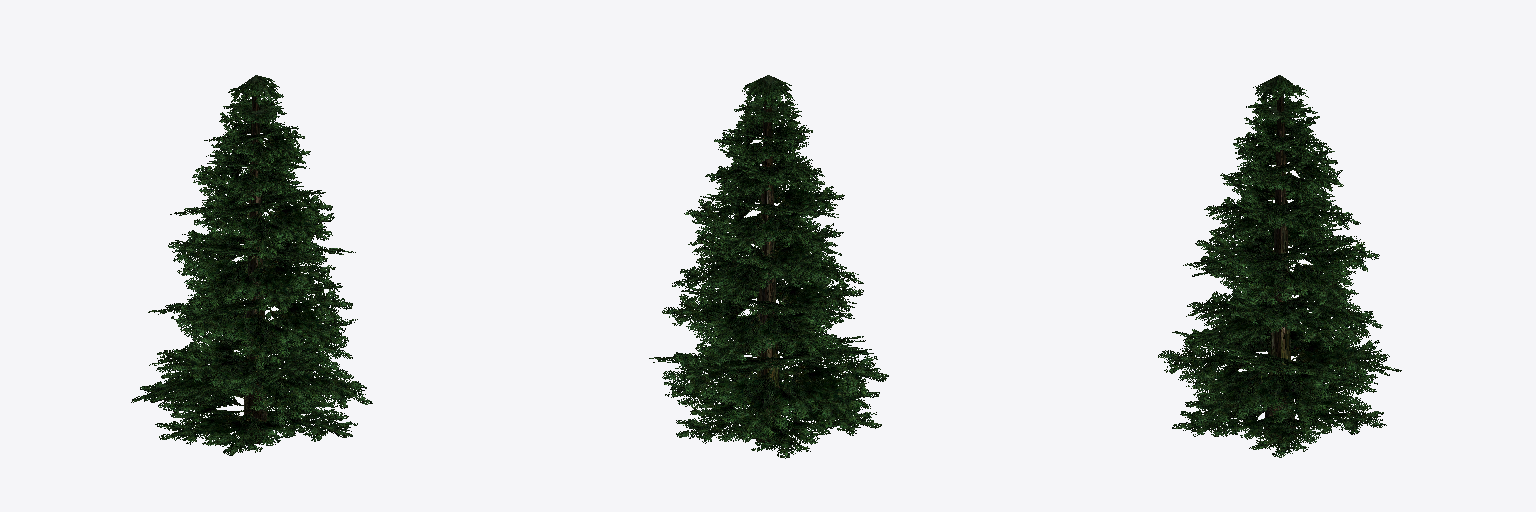
3 views of the same model, side by side, from view 1: azimuth 30°, elevation 25°; view 2: azimuth 150°, elevation 25°; view 3: azimuth 270°, elevation 25° (orthographic).
Visible parts, largest first — view 1: pine1.001_pine1-Geometry.001, pine1_pine1-Geometry; view 2: pine1.001_pine1-Geometry.001, pine1_pine1-Geometry; view 3: pine1.001_pine1-Geometry.001, pine1_pine1-Geometry.
Boxes of the visible parts, <box> form: pine1.001_pine1-Geometry.001: <box>131,75,372,455</box>; pine1_pine1-Geometry: <box>244,96,267,443</box>; pine1.001_pine1-Geometry.001: <box>649,75,888,458</box>; pine1_pine1-Geometry: <box>756,102,780,442</box>; pine1.001_pine1-Geometry.001: <box>1158,75,1401,457</box>; pine1_pine1-Geometry: <box>1264,88,1296,441</box>.
Bounding box in the file's own units: 16.29 × 19.23 × 16.35.
Materials: 2 (1 with a texture image).